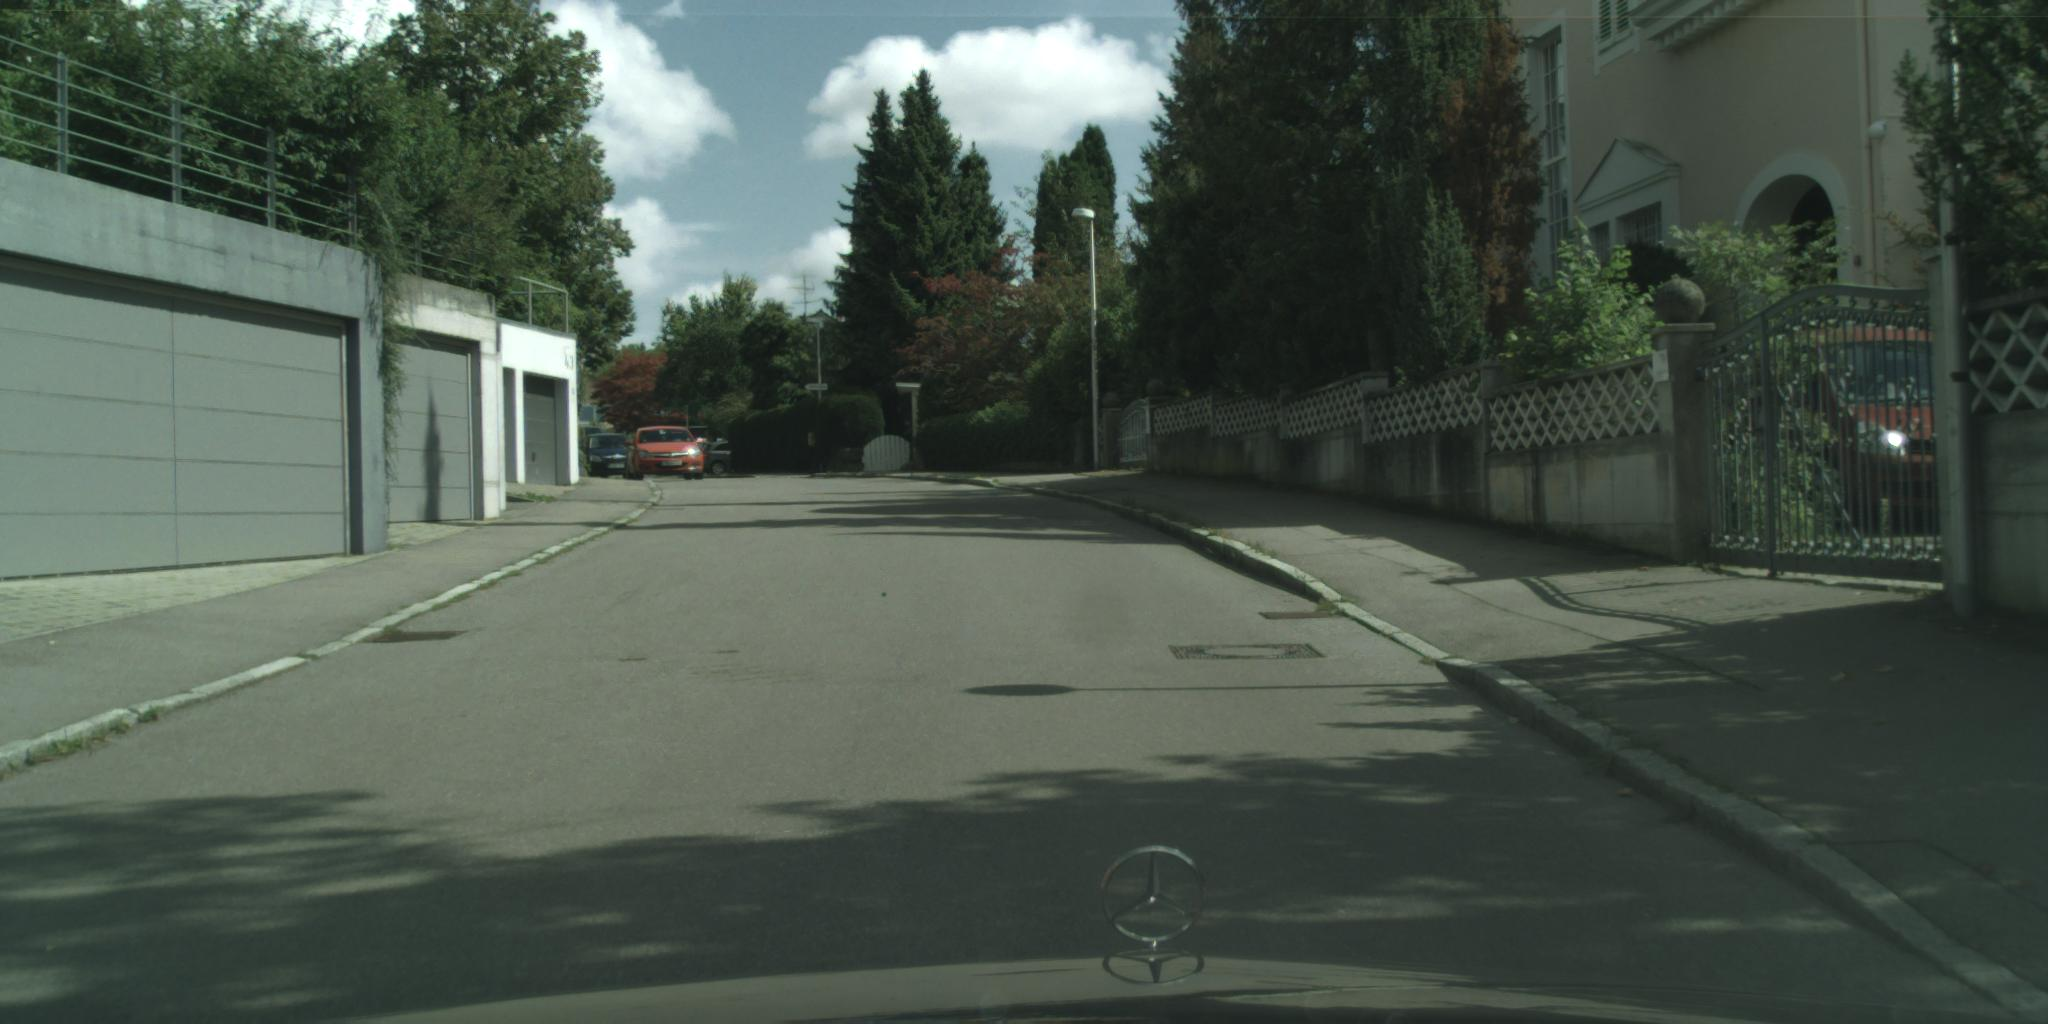car: (626, 428, 707, 482), (585, 434, 639, 481), (699, 441, 734, 475)
